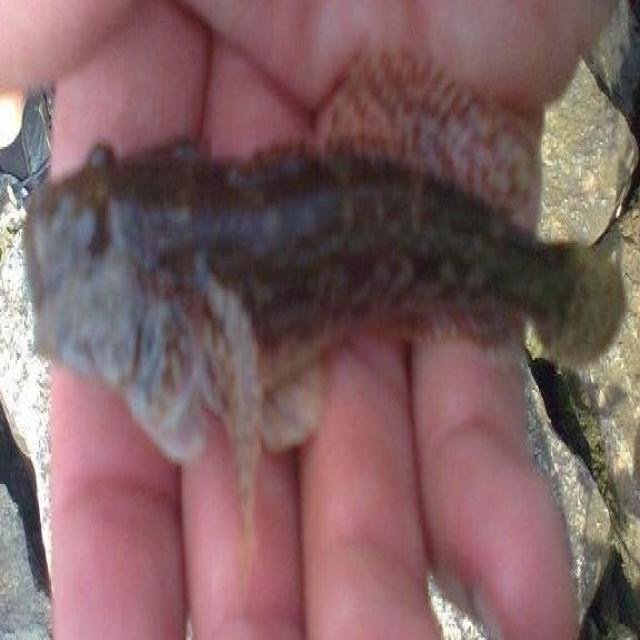Goby: (22, 26, 638, 558)
